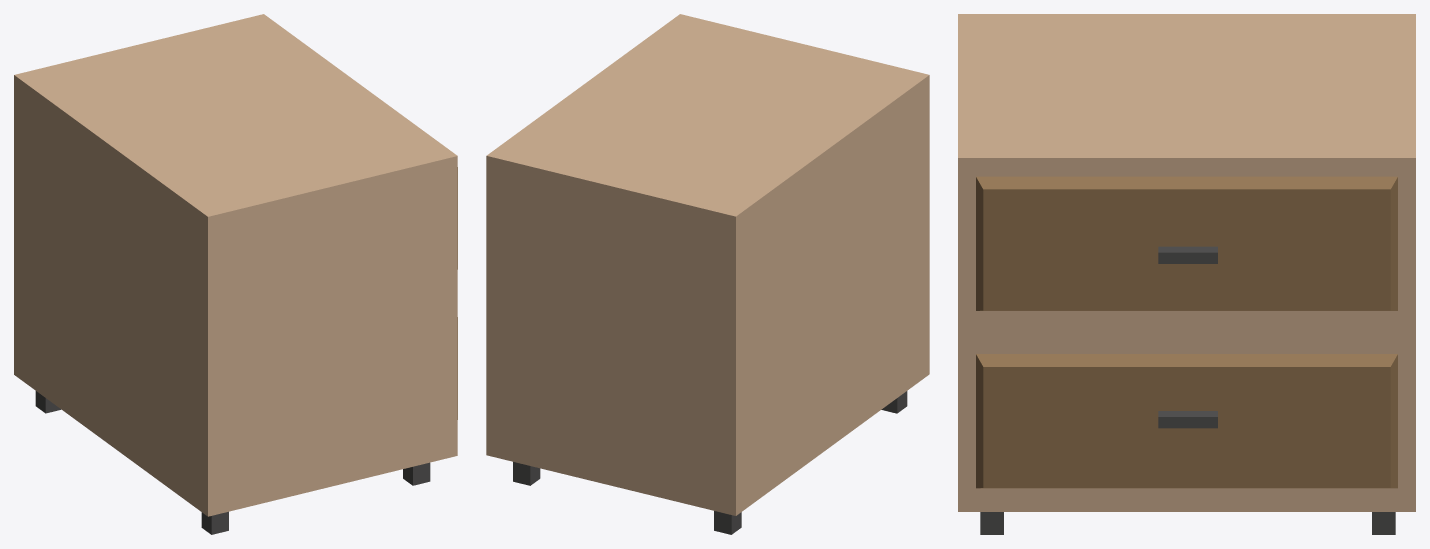
The picture shows the model from 3 angles, left to right: view 1: azimuth 30°, elevation 25°; view 2: azimuth 150°, elevation 25°; view 3: azimuth 270°, elevation 25°; orthographic projection. The views are drawn at different scales.
Parts seen in each view (by area): view 1: box; view 2: box; view 3: box.
Part boxes in pixels (bbox=[...]): box: bbox=[14, 14, 457, 534]; box: bbox=[486, 14, 929, 534]; box: bbox=[958, 14, 1415, 534].
Size of the model in its own units: 83.28 by 96.37 by 103.
